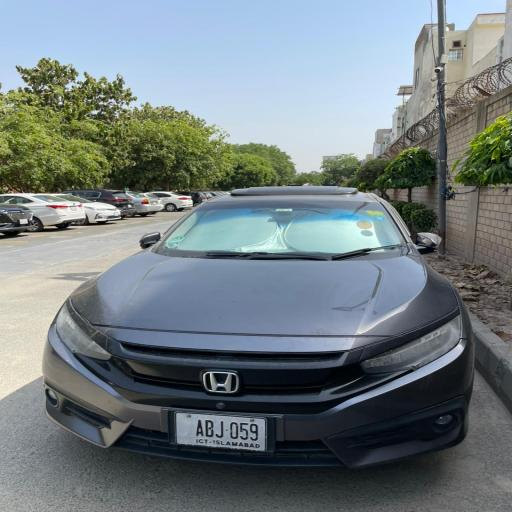number_plate: (172, 414, 270, 454)
